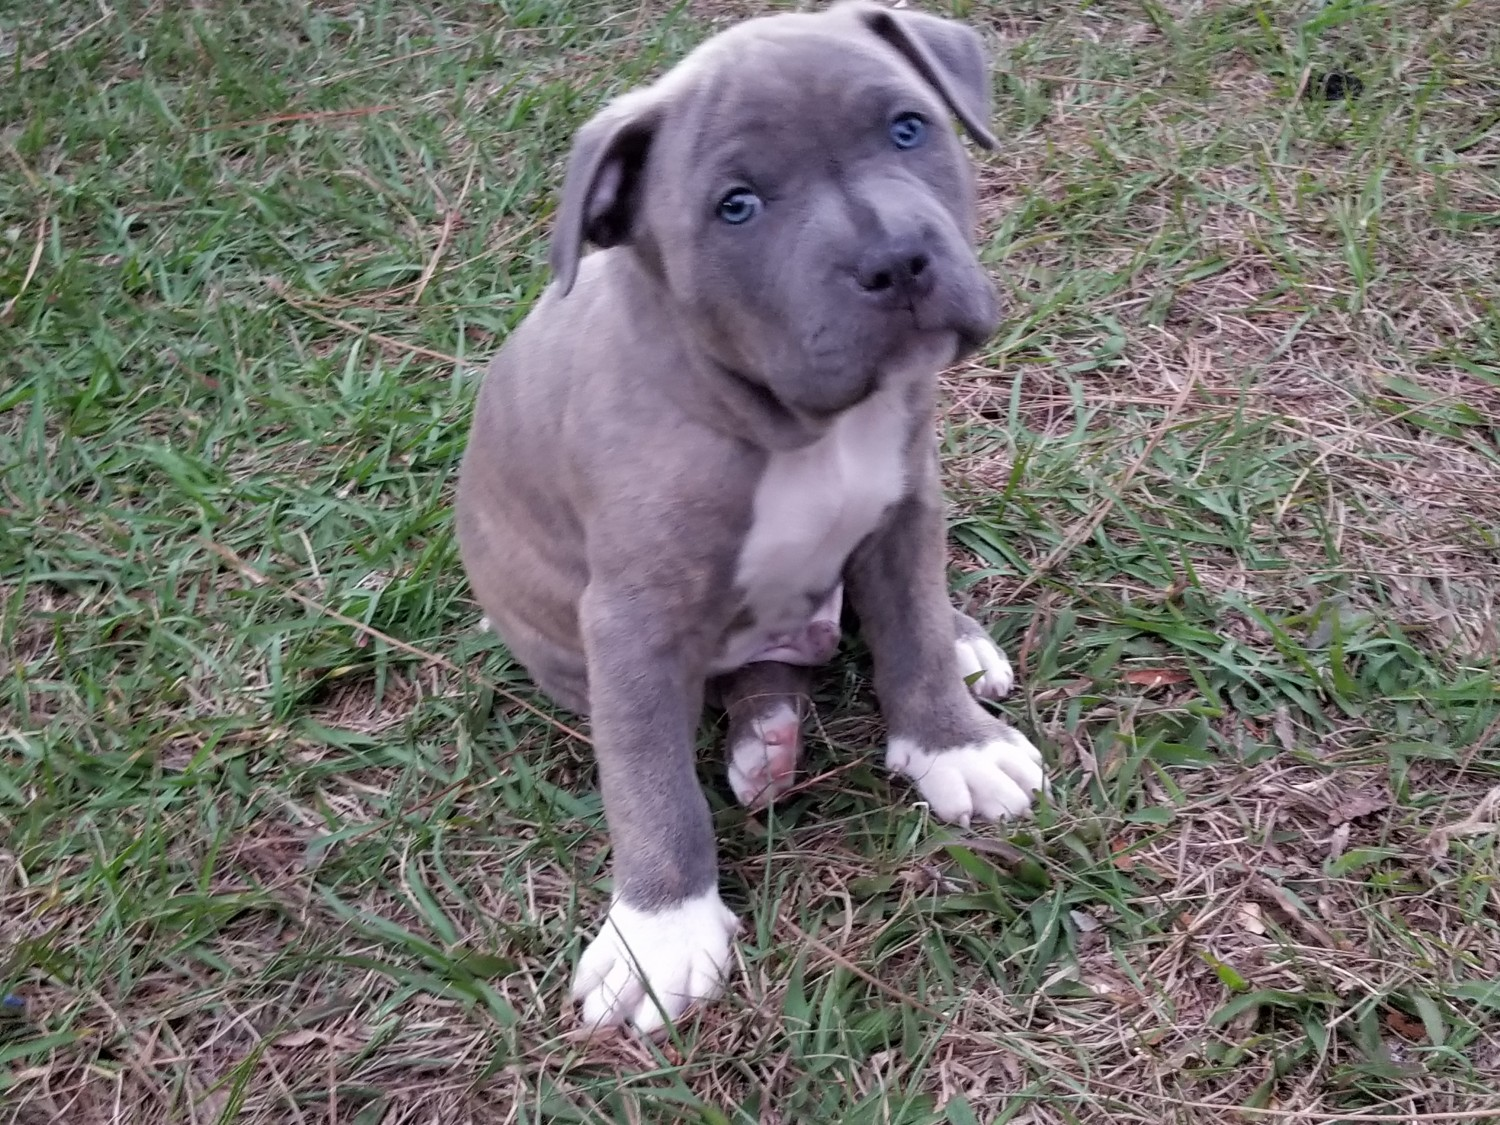am_pit_bull_terrier: (451, 1, 1054, 1038)
